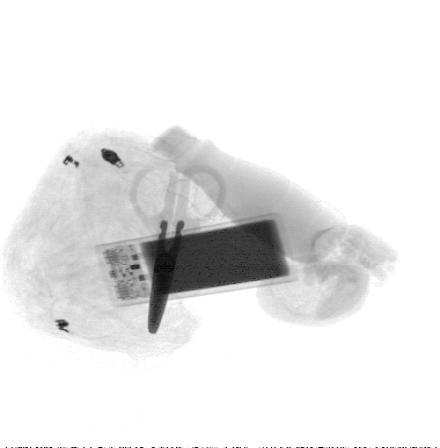Powerbank: (92, 211, 296, 306)
Scissors: (126, 163, 227, 335)
